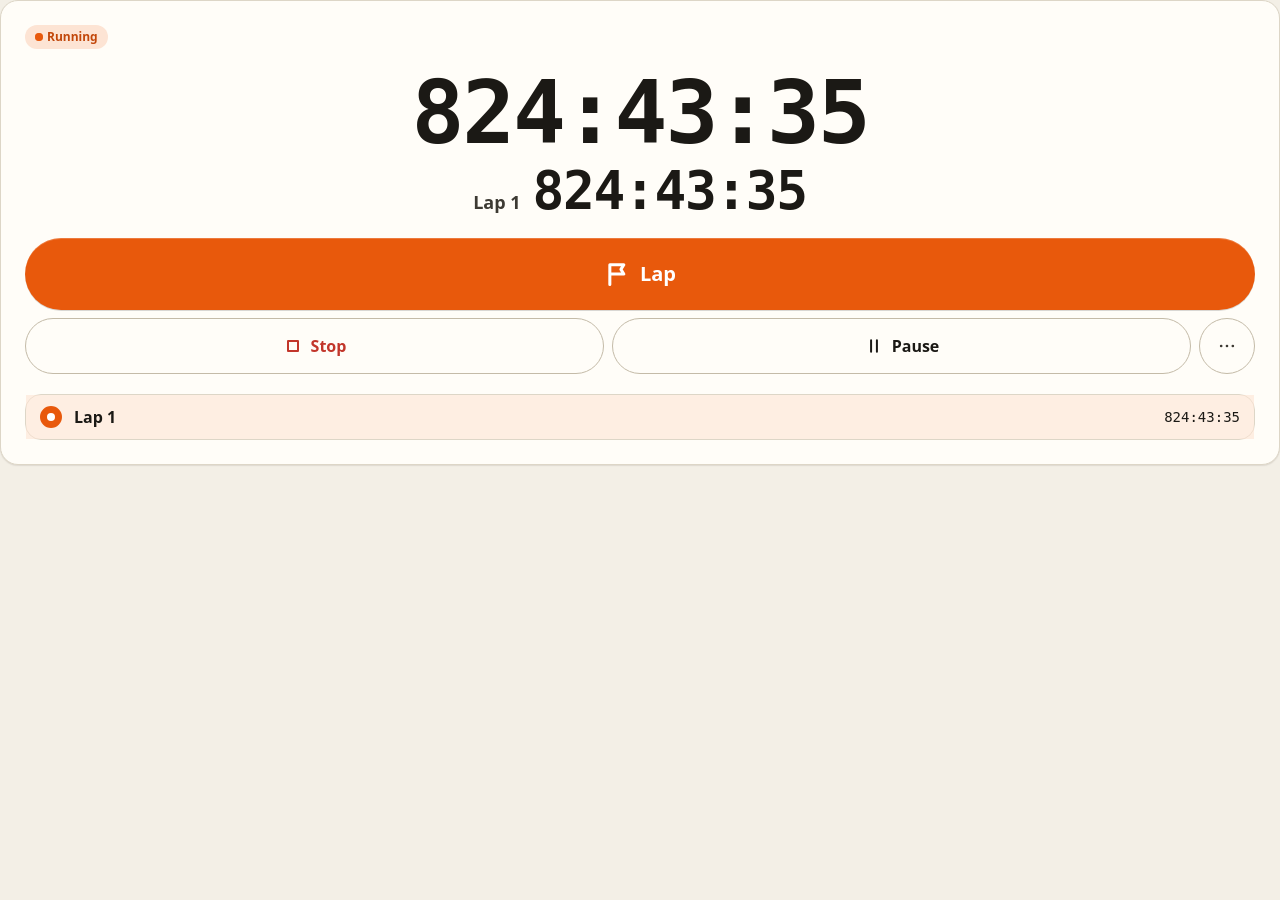
Test: the run panel › a reopened run offers "Undo resume…" instead of "Discard run…" (§1.2 row 10)
The width and height of the screenshot is (1280, 900).
Expected: the text "Running" is shown, [25,25,108,49]
Click the button with test id "run-more" at point(1227, 346), box [1199,318,1255,374]
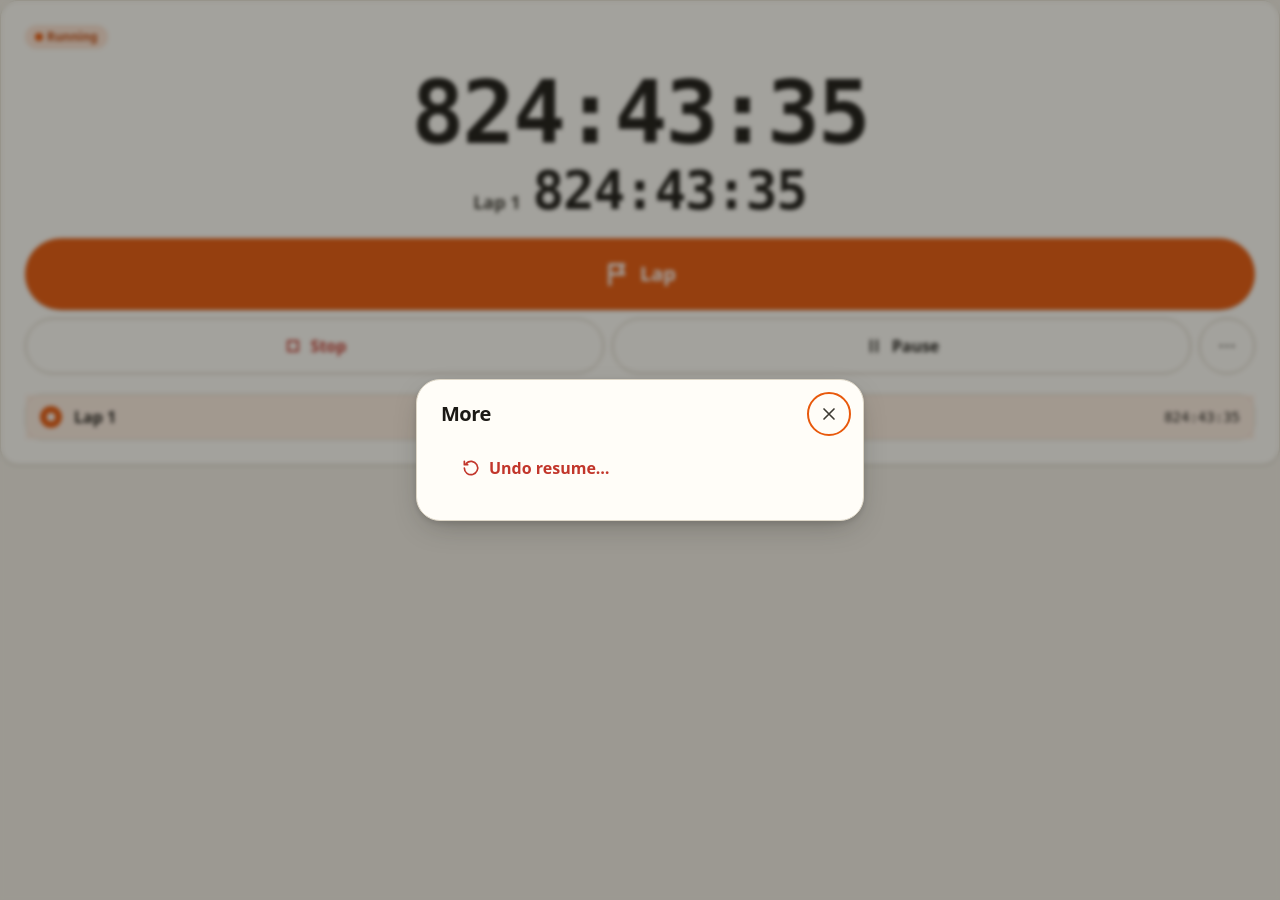
Expected: the button with test id "run-revert" reads "Undo resume…", [441,440,839,496]
